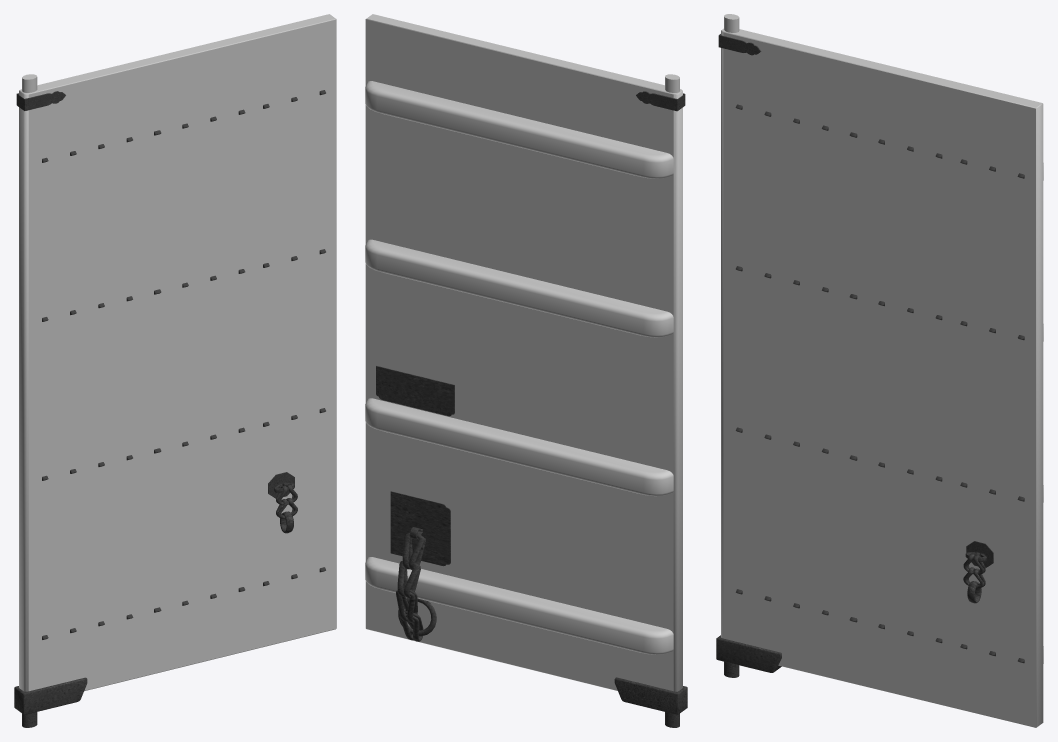
Rendered from SM_SJJ_HG_Door03B_01.fbx.
3 renders of one model, left to right at view 1: azimuth 30°, elevation 25°; view 2: azimuth 150°, elevation 25°; view 3: azimuth 330°, elevation 25°, orthographic.
Parts seen in each view (by area): view 1: SM_SJJ_HG_Door03B_01; view 2: SM_SJJ_HG_Door03B_01; view 3: SM_SJJ_HG_Door03B_01.
Part boxes in pixels (x1,y1,x2,y2): SM_SJJ_HG_Door03B_01: (14,14,336,727); SM_SJJ_HG_Door03B_01: (365,14,687,727); SM_SJJ_HG_Door03B_01: (716,14,1043,727).
Size of the model in its own units: 151 by 27.82 by 298.
